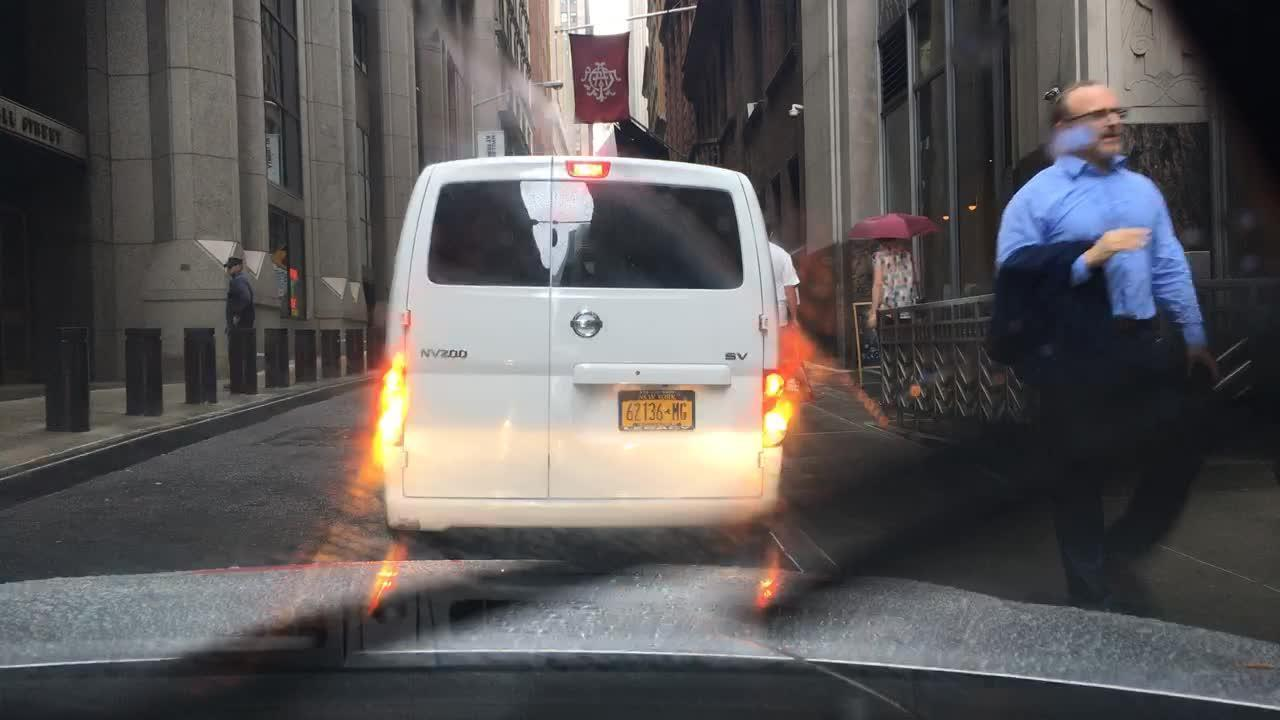Nissan: (568, 308, 609, 343)
